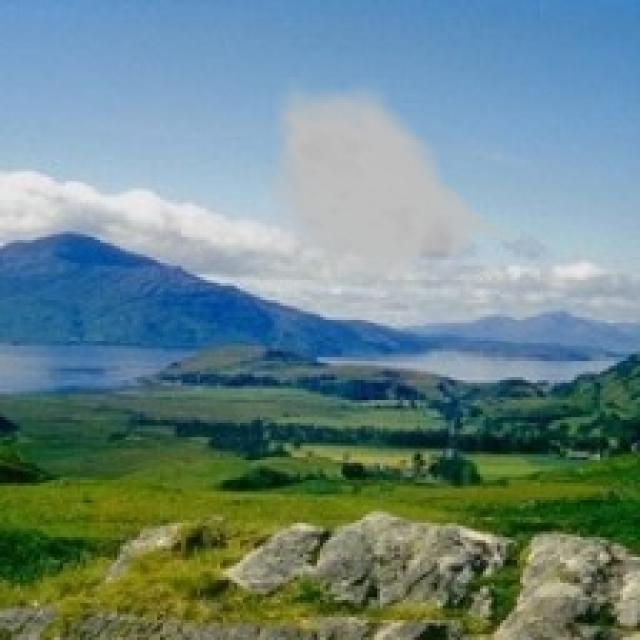smoke: (260, 74, 526, 286)
